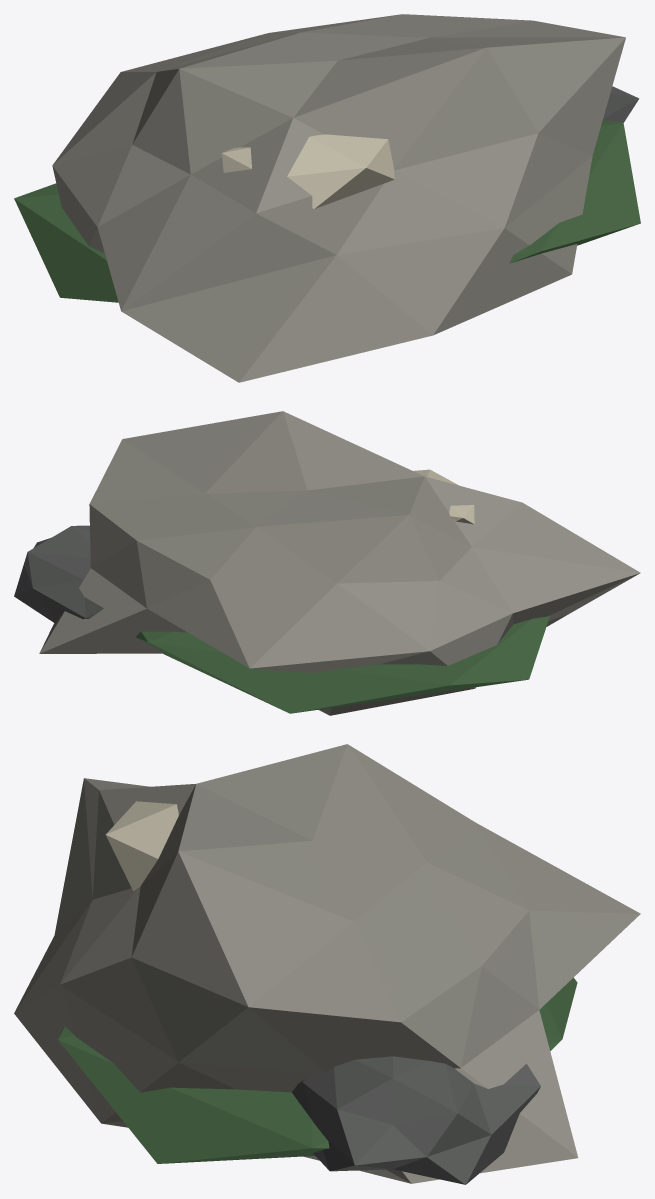
The model's file is rock_3.glb.
3 renders of one model, top to bottom at view 1: azimuth 30°, elevation 25°; view 2: azimuth 150°, elevation 25°; view 3: azimuth 270°, elevation 25°, orthographic. The views are drawn at different scales.
Parts seen in each view (by area): view 1: rock_3; view 2: rock_3; view 3: rock_3.
Part boxes in pixels (bbox=[...]): rock_3: bbox=[14, 14, 640, 382]; rock_3: bbox=[14, 411, 640, 715]; rock_3: bbox=[14, 744, 640, 1184].
Size of what is drawn, in the model's own units: 2.81 by 1.08 by 2.1.
